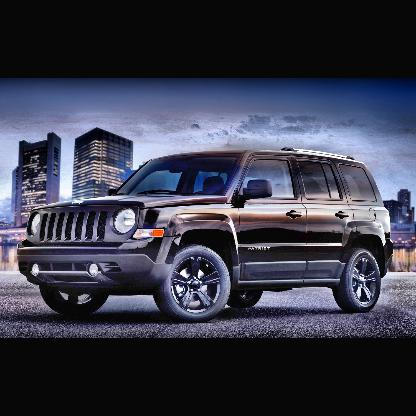Jeep Patriot SUV 2012: (15, 146, 396, 323)
